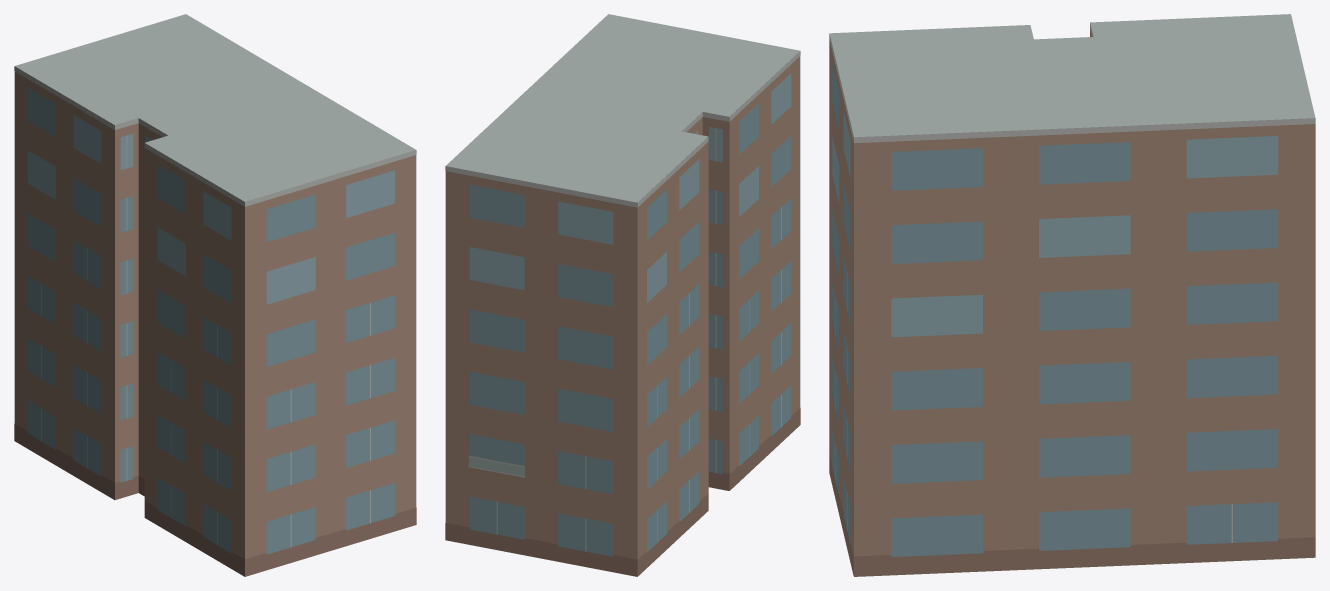
The model's file is survey-upis-32633519.glb.
3 renders of one model, left to right at view 1: azimuth 30°, elevation 25°; view 2: azimuth 150°, elevation 25°; view 3: azimuth 270°, elevation 25°, orthographic. The views are drawn at different scales.
Visible parts, largest first — view 1: survey-upis-32633519.tmp; view 2: survey-upis-32633519.tmp; view 3: survey-upis-32633519.tmp.
Boxes of the visible parts, <box> form: survey-upis-32633519.tmp: <box>14,14,416,576</box>; survey-upis-32633519.tmp: <box>445,14,800,576</box>; survey-upis-32633519.tmp: <box>829,14,1315,576</box>.
Bounding box in the file's own units: 11.02 × 18.3 × 18.35.
